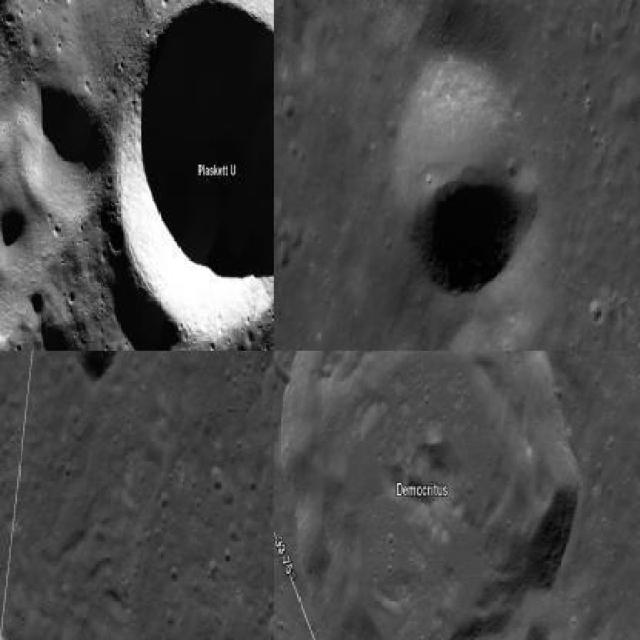crater: (280, 351, 583, 638), (113, 0, 272, 338), (394, 57, 538, 298), (21, 78, 114, 220), (72, 351, 120, 383)
